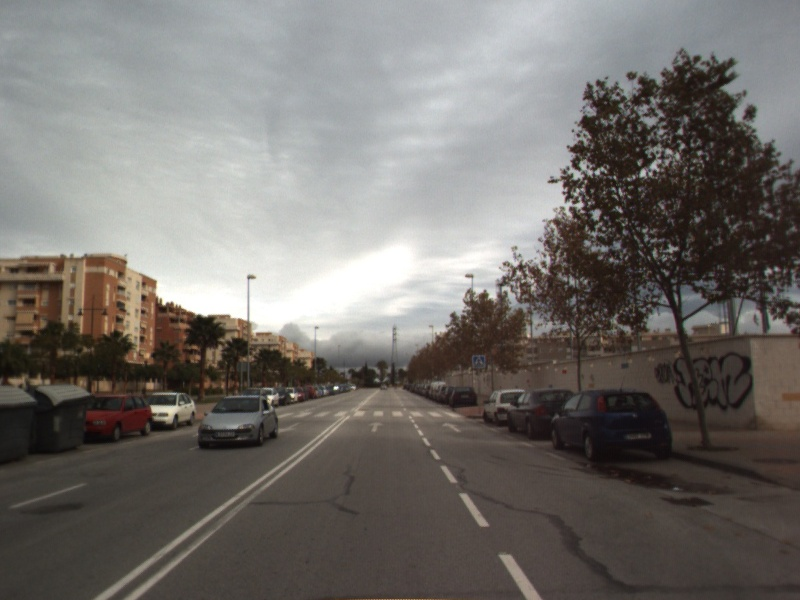STRAIGHT: (440, 420, 463, 434), (366, 419, 387, 434)
